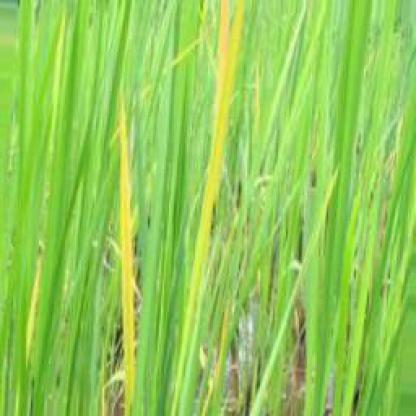Tungro: (169, 3, 255, 416), (113, 92, 138, 411)
